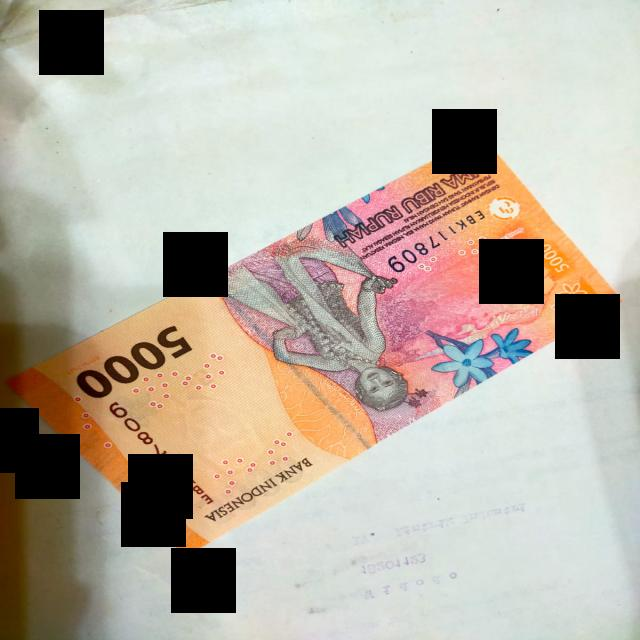lima ribu rupiah: (10, 138, 620, 554)
